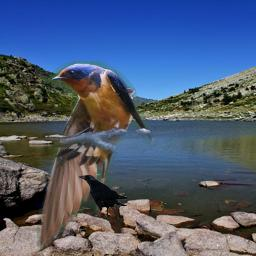Crow: (78, 174, 127, 219)
Swallow: (36, 61, 154, 248)
